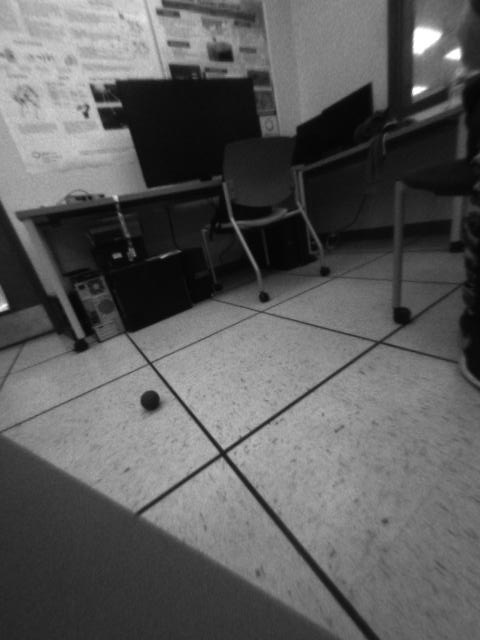dogtoy: (135, 383, 166, 417)
